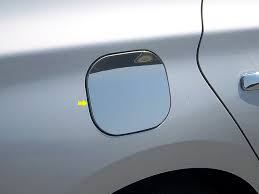closed: (82, 47, 178, 138)
